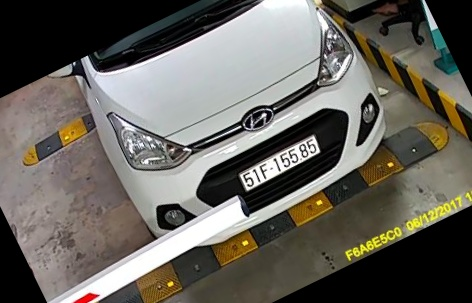plate: (238, 137, 323, 195)
